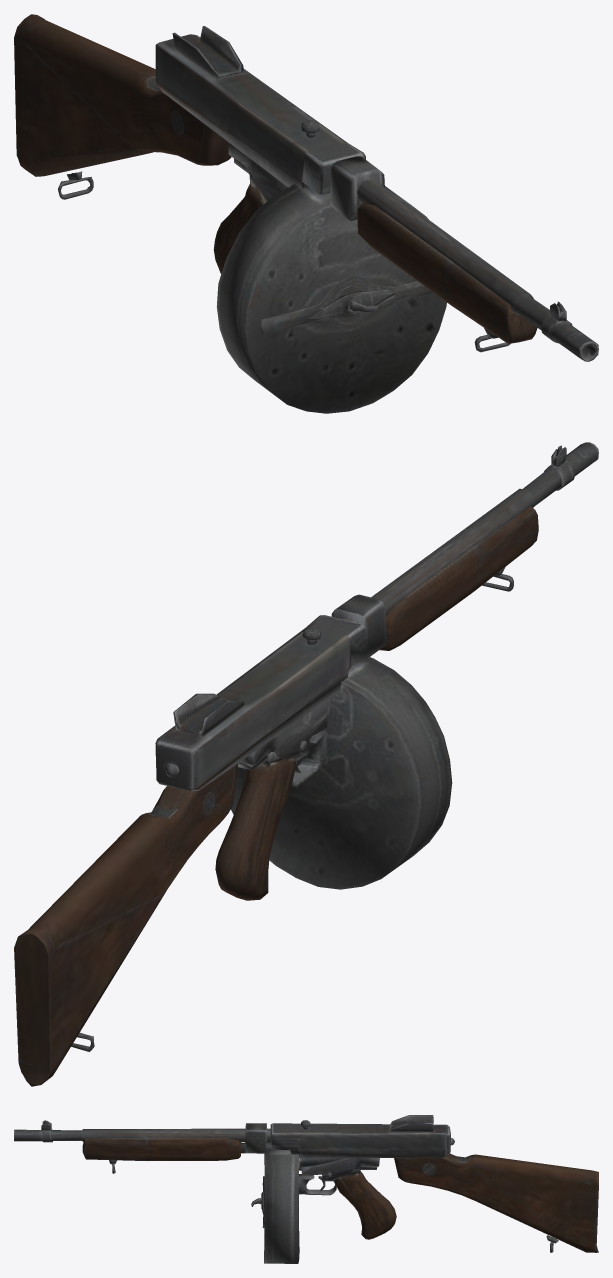
The model's file is thompson.fbx.
3 renders of one model, top to bottom at view 1: azimuth 30°, elevation 25°; view 2: azimuth 150°, elevation 25°; view 3: azimuth 270°, elevation 25°, orthographic. The views are drawn at different scales.
Visible parts, largest first — view 1: thompson; view 2: thompson; view 3: thompson.
Boxes of the visible parts, x1,y1,x2,y2 form: thompson: (14,14,598,413); thompson: (14,442,598,1086); thompson: (14,1115,598,1263).
Size of the model in its own units: 17.83 by 22.51 by 85.7.
1 material, 1 textured.
